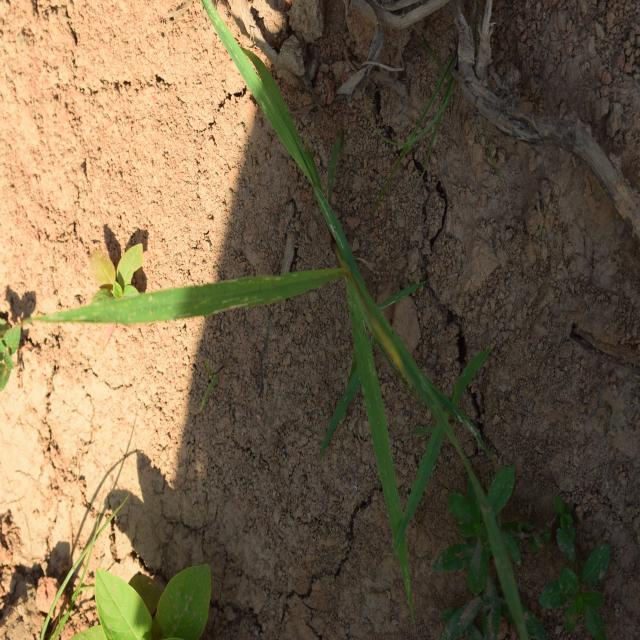green_foxtail: (149, 84, 471, 512)
